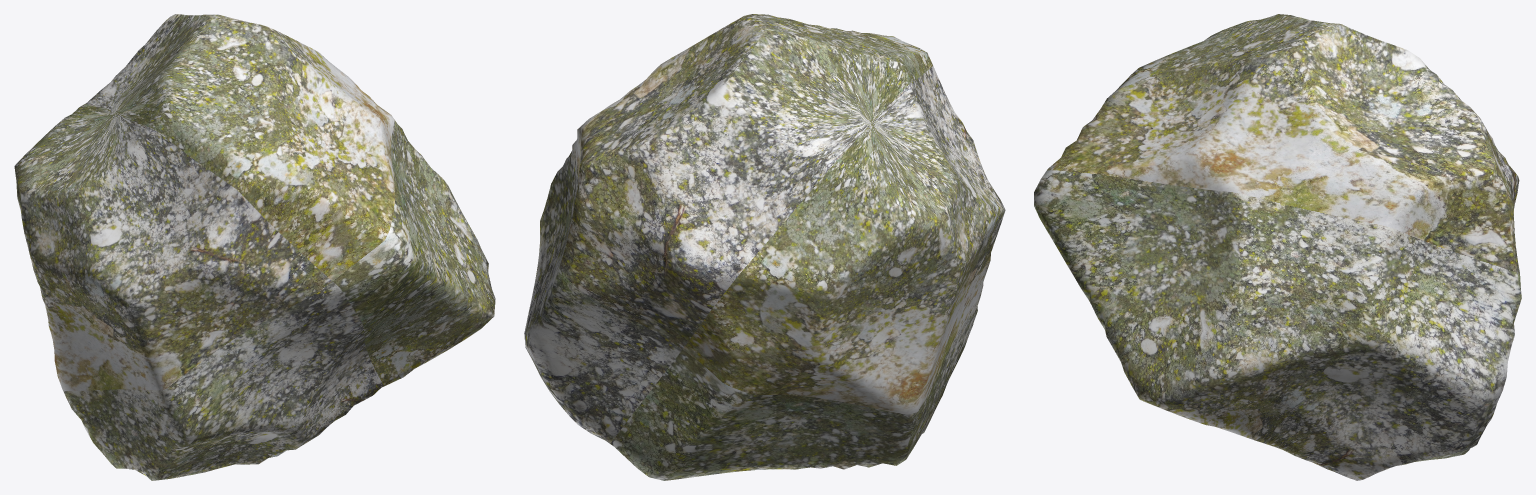
File: vitgrönsten.fbx
3 views of the same model, side by side, from view 1: azimuth 30°, elevation 25°; view 2: azimuth 150°, elevation 25°; view 3: azimuth 270°, elevation 25° (orthographic).
Visible parts, largest first — view 1: GeoSphere001; view 2: GeoSphere001; view 3: GeoSphere001.
Boxes of the visible parts, box(x1,y1,x2,y2) form: GeoSphere001: box(14, 14, 495, 480); GeoSphere001: box(524, 14, 1005, 480); GeoSphere001: box(1034, 14, 1521, 480).
Size of the model in its own units: 90.22 by 87.66 by 93.64.
